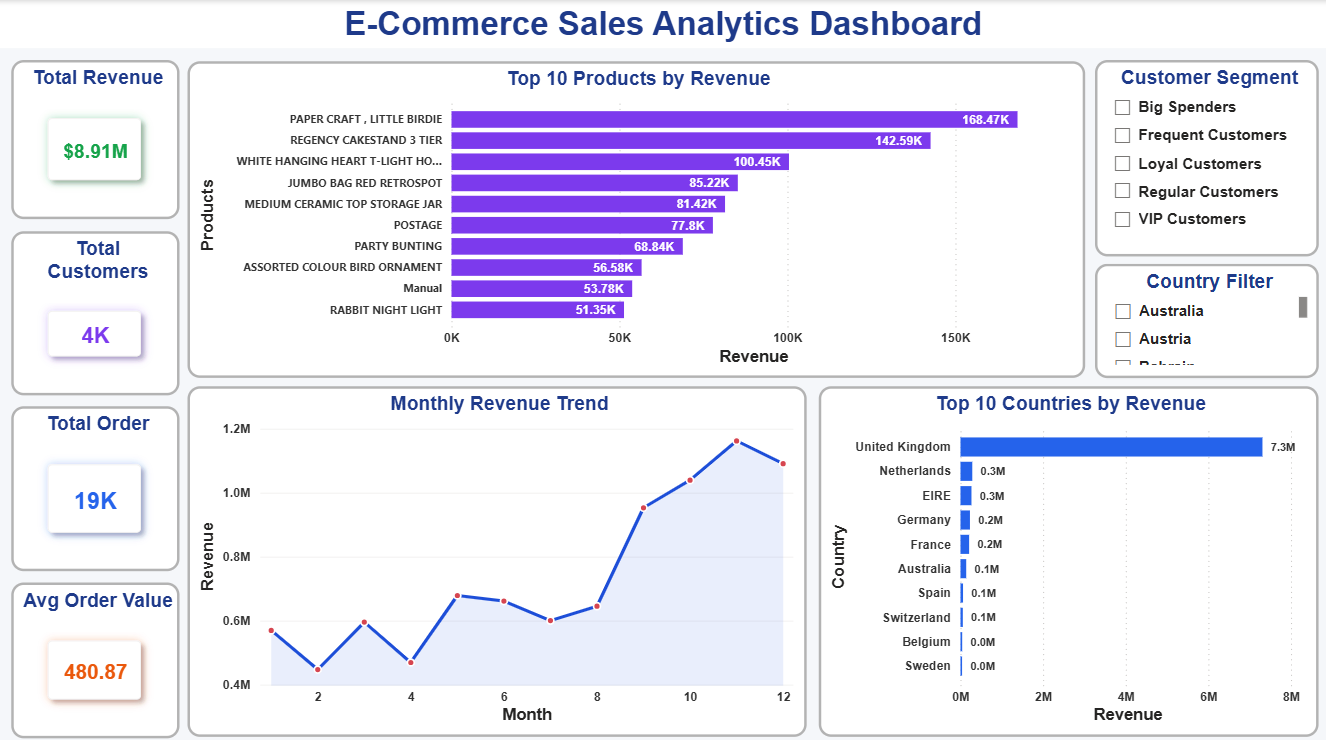

The dashboard page shown, as its layout file describes it:
{"tool":"powerbi","page":{"name":"Executive Overview","canvas":[1280,720],"ordinal":0},"visuals":[{"type":"textbox","box":[0,0,1280.2,46.5],"z":0},{"type":"cardVisual","title":"Total Revenue","fields":{"Data":["cleaned ecommerce data.Total Revenue"]},"box":[10.5,58.1,162.8,153.5],"z":1000},{"type":"cardVisual","title":"Total Customers","fields":{"Data":["cleaned ecommerce data.Total Customers"]},"box":[10.5,223.3,162.8,158.1],"z":2000},{"type":"cardVisual","title":"Avg Order Value","fields":{"Data":["cleaned ecommerce data.Avg Order Value"]},"box":[10.5,561.6,162.8,150],"z":3000},{"type":"cardVisual","title":"Total Order","fields":{"Data":["cleaned ecommerce data.Total Orders"]},"box":[10.5,391.9,162.8,159.3],"z":4000},{"type":"lineChart","title":"Monthly Revenue Trend","fields":{"Category":["cleaned ecommerce data.InvoiceMonth"],"Y":["cleaned ecommerce data.Total Revenue"]},"box":[181.4,373.3,597.7,338.4],"z":5000},{"type":"clusteredBarChart","title":"Top 10 Countries by Revenue","fields":{"Category":["cleaned ecommerce data.Country"],"Y":["cleaned ecommerce data.Total Revenue"]},"box":[790.4,372.9,482,338.4],"z":6000},{"type":"clusteredBarChart","title":"Top 10 Products by Revenue","fields":{"Category":["cleaned ecommerce data.Description"],"Y":["cleaned ecommerce data.Total Revenue"]},"box":[181.4,59.3,866.3,305.8],"z":7000},{"type":"slicer","title":"Country Filter","fields":{"Values":["cleaned ecommerce data.Country"]},"box":[1057,254.7,216.3,110.5],"z":8000},{"type":"slicer","title":"Customer Segment","fields":{"Values":["rfm customer segments.Segment"]},"box":[1057,58.1,216.3,189.5],"z":9000}]}

Visuals, with their boxes in screenshot pixels (x1, y1, x2, y2), scaled from the page's 1280x720 canvas onto the 1326x740 screenshot:
textbox: (x1=0, y1=0, x2=1325, y2=48)
"Total Revenue" cardVisual: (x1=11, y1=60, x2=180, y2=217)
"Total Customers" cardVisual: (x1=11, y1=230, x2=180, y2=392)
"Avg Order Value" cardVisual: (x1=11, y1=577, x2=180, y2=731)
"Total Order" cardVisual: (x1=11, y1=403, x2=180, y2=567)
"Monthly Revenue Trend" lineChart: (x1=188, y1=384, x2=807, y2=731)
"Top 10 Countries by Revenue" clusteredBarChart: (x1=819, y1=383, x2=1318, y2=731)
"Top 10 Products by Revenue" clusteredBarChart: (x1=188, y1=61, x2=1085, y2=375)
"Country Filter" slicer: (x1=1095, y1=262, x2=1319, y2=375)
"Customer Segment" slicer: (x1=1095, y1=60, x2=1319, y2=254)
